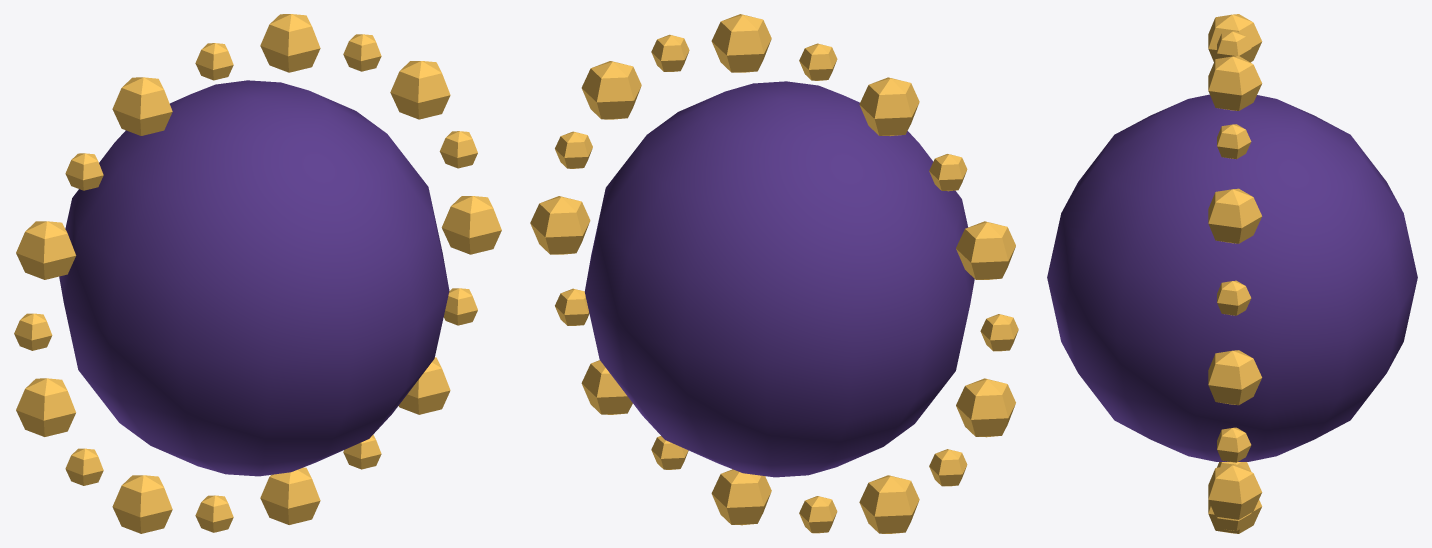
Rendered from Fruto_EclipseBloom.fbx.
3 renders of one model, left to right at view 1: azimuth 30°, elevation 25°; view 2: azimuth 150°, elevation 25°; view 3: azimuth 270°, elevation 25°, orthographic. The views are drawn at different scales.
Parts seen in each view (by area): view 1: Produto_EclipseBloom, Cabo_EclipseBloom; view 2: Produto_EclipseBloom, Cabo_EclipseBloom; view 3: Produto_EclipseBloom, Cabo_EclipseBloom.
Boxes of the visible parts, x1,y1,x2,y2 form: Produto_EclipseBloom: [59, 80, 449, 476]; Cabo_EclipseBloom: [14, 14, 501, 533]; Produto_EclipseBloom: [584, 81, 974, 477]; Cabo_EclipseBloom: [530, 14, 1018, 533]; Produto_EclipseBloom: [1047, 94, 1417, 461]; Cabo_EclipseBloom: [1208, 14, 1262, 533].
Bounding box in the file's own units: 0.9596 × 0.9707 × 0.684.
1 material, 1 textured.
